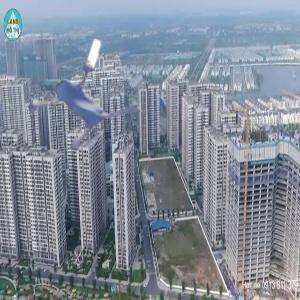drone: (12, 14, 169, 171)
